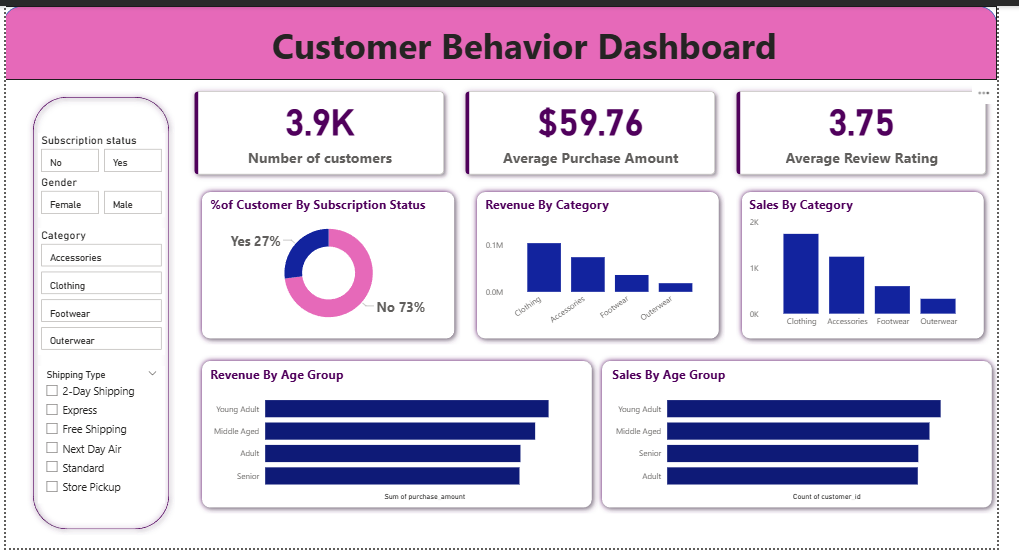

What the dashboard file says about the page in this screenshot:
{"tool":"powerbi","page":{"name":"Page 1","canvas":[1500,820],"ordinal":0},"visuals":[{"type":"cardVisual","fields":{"Data":["public customer.Number of customers","public customer.Average Purchase Amount","public customer.Average Review Rating"]},"box":[268,112,1232,160],"z":0},{"type":"shape","title":"Customer Behavior Dashboard","box":[-4,0,1504,112],"z":1000},{"type":"textbox","box":[272,16,1024,96],"z":2000},{"type":"shape","box":[288,272,400,240],"z":3000},{"type":"donutChart","title":"%of Customer By Subscription Status","fields":{"Category":["public customer.subscription_status"],"Y":["public customer.Number of customers"]},"box":[304,288,368,208],"z":4000},{"type":"shape","box":[704,272,384,240],"z":5000},{"type":"shape","box":[1104,272,384,240],"z":6000},{"type":"clusteredColumnChart","title":"Revenue By Category","fields":{"Y":["Sum(public customer.purchase_amount)"],"Category":["public customer.category"]},"box":[720,288,352,208],"z":7000},{"type":"clusteredColumnChart","title":"Sales By Category","fields":{"Category":["public customer.category"],"Y":["Count(public customer.customer_id)"]},"box":[1120,288,352,208],"z":8000},{"type":"shape","box":[32,128,224,672],"z":9000},{"type":"advancedSlicerVisual","fields":{"Values":["public customer.subscription_status"]},"box":[48,192,192,64],"z":10000},{"type":"advancedSlicerVisual","fields":{"Values":["public customer.gender"]},"box":[48,256,192,64],"z":11000},{"type":"advancedSlicerVisual","fields":{"Values":["public customer.category"]},"box":[48,336,192,192],"z":12000},{"type":"slicer","fields":{"Values":["public customer.shipping_type"]},"box":[48,544,192,208],"z":13000},{"type":"shape","box":[288,528,608,240],"z":14000},{"type":"clusteredBarChart","title":"Revenue By Age Group","fields":{"Y":["Sum(public customer.purchase_amount)"],"Category":["public customer.age_group"]},"box":[304,544,576,208],"z":15000},{"type":"shape","box":[892,528,608,240],"z":15001},{"type":"clusteredBarChart","title":"Sales By Age Group","fields":{"Y":["Count(public customer.customer_id)"],"Category":["public customer.age_group"]},"box":[912,544,576,208],"z":15002}]}

Visuals, with their boxes in screenshot pixels (x1, y1, x2, y2), scaled from the page's 1500x820 canvas onto the 1019x552 screenshot:
cardVisual - public customer.Number of customers x public customer.Average Purchase Amount: bbox(182, 75, 1018, 183)
"Customer Behavior Dashboard" shape: bbox(0, 0, 1018, 75)
textbox: bbox(185, 11, 880, 75)
shape: bbox(196, 183, 467, 345)
"%of Customer By Subscription Status" donutChart: bbox(207, 194, 457, 334)
shape: bbox(478, 183, 739, 345)
shape: bbox(750, 183, 1011, 345)
"Revenue By Category" clusteredColumnChart: bbox(489, 194, 728, 334)
"Sales By Category" clusteredColumnChart: bbox(761, 194, 1000, 334)
shape: bbox(22, 86, 174, 539)
advancedSlicerVisual - public customer.subscription_status: bbox(33, 129, 163, 172)
advancedSlicerVisual - public customer.gender: bbox(33, 172, 163, 215)
advancedSlicerVisual - public customer.category: bbox(33, 226, 163, 355)
slicer - public customer.shipping_type: bbox(33, 366, 163, 506)
shape: bbox(196, 355, 609, 517)
"Revenue By Age Group" clusteredBarChart: bbox(207, 366, 598, 506)
shape: bbox(606, 355, 1018, 517)
"Sales By Age Group" clusteredBarChart: bbox(620, 366, 1011, 506)
